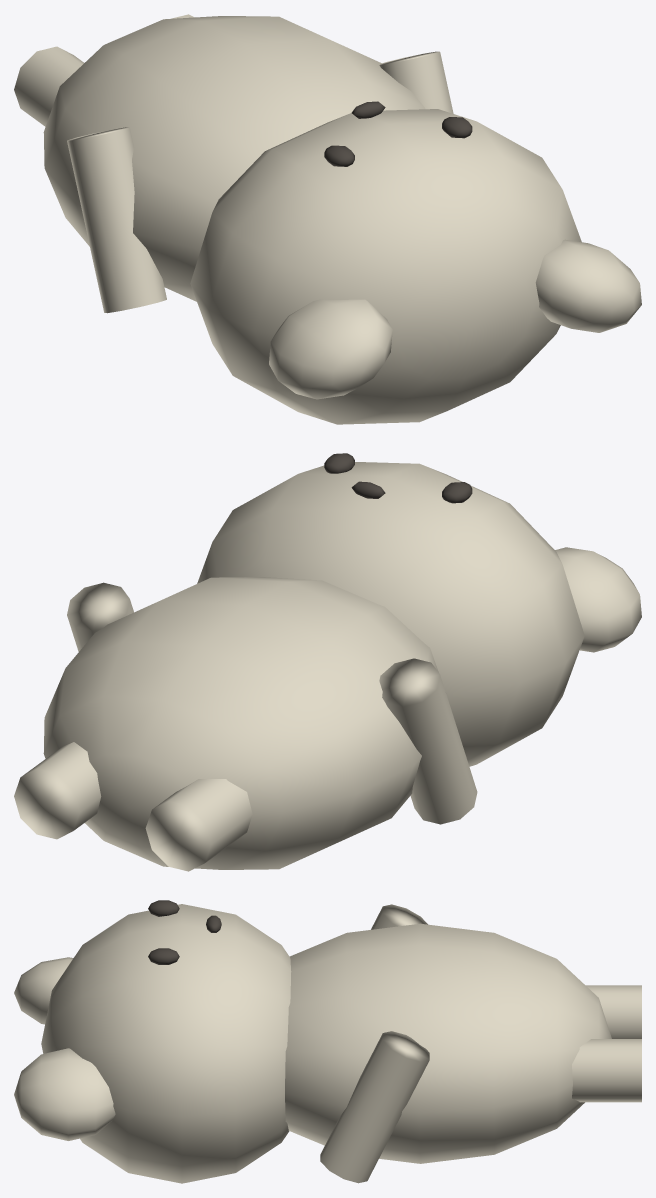
File: soine_companion.glb
3 views of the same model, one above another, from view 1: azimuth 30°, elevation 25°; view 2: azimuth 150°, elevation 25°; view 3: azimuth 270°, elevation 25° (orthographic). The views are drawn at different scales.
Parts seen in each view (by area): view 1: Head, Body, Arm.L, Ear.L, Ear.R, Leg.L, Arm.R; view 2: Body, Head, Arm.L, Leg.L, Leg.R, Ear.L, Arm.R; view 3: Body, Head, Arm.R, Ear.R, Leg.R, Leg.L, Ear.L, Arm.L, Eye.R, Eye.L.
Part boxes in pixels (left/top/right/bottom): Head: left=190, top=109, right=581, bottom=424; Body: left=43, top=16, right=425, bottom=301; Arm.L: left=67, top=127, right=166, bottom=313; Ear.L: left=269, top=299, right=392, bottom=399; Ear.R: left=535, top=239, right=641, bottom=332; Leg.L: left=14, top=46, right=83, bottom=126; Arm.R: left=379, top=51, right=453, bottom=113; Body: left=43, top=577, right=438, bottom=869; Head: left=197, top=462, right=584, bottom=766; Arm.L: left=379, top=658, right=477, bottom=824; Leg.L: left=145, top=779, right=252, bottom=871; Leg.R: left=14, top=742, right=101, bottom=839; Ear.L: left=555, top=547, right=641, bottom=652; Arm.R: left=67, top=582, right=133, bottom=651; Body: left=285, top=923, right=611, bottom=1163; Head: left=41, top=904, right=291, bottom=1183; Arm.R: left=320, top=1031, right=429, bottom=1183; Ear.R: left=14, top=1048, right=115, bottom=1140; Leg.R: left=572, top=1039, right=641, bottom=1102; Leg.L: left=586, top=985, right=641, bottom=1038; Ear.L: left=14, top=957, right=73, bottom=1024; Arm.L: left=371, top=904, right=427, bottom=929; Eye.R: left=148, top=948, right=179, bottom=964; Eye.L: left=148, top=900, right=179, bottom=916.
Bounding box in the file's own units: 1.56 × 1.19 × 2.77.
